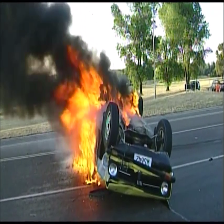fire_h: (55, 41, 104, 176), (107, 84, 142, 126)
fire_l: (85, 173, 100, 186)
